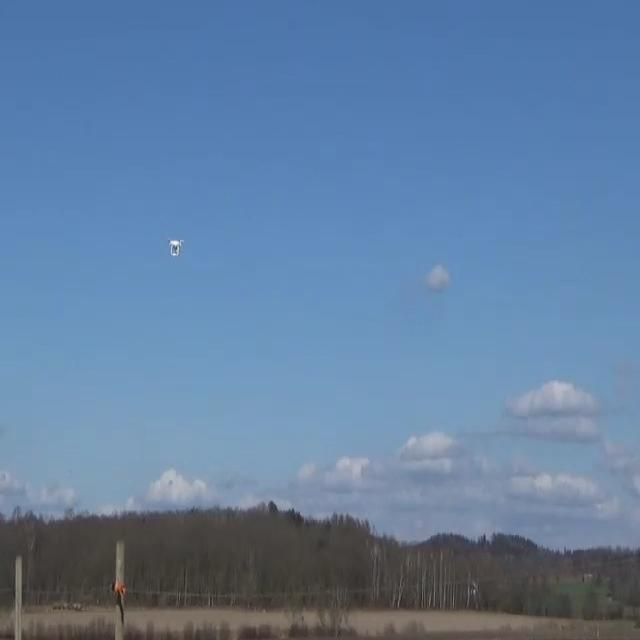drone: (167, 238, 183, 256)
